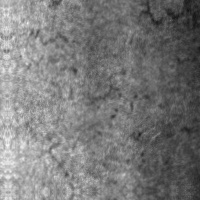crazing: (7, 26, 122, 103), (139, 0, 199, 137)
